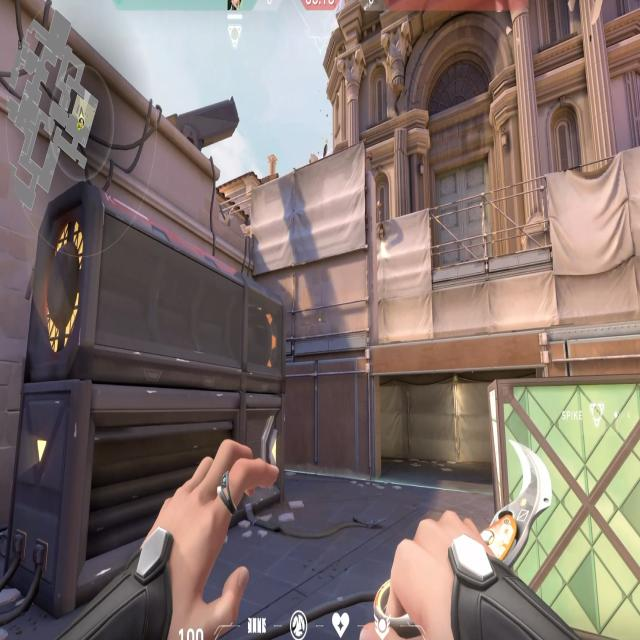A_Heaven_Wall: (254, 148, 378, 354)
A_Hell: (352, 356, 577, 506)
A_Site_Box: (485, 380, 640, 640)
